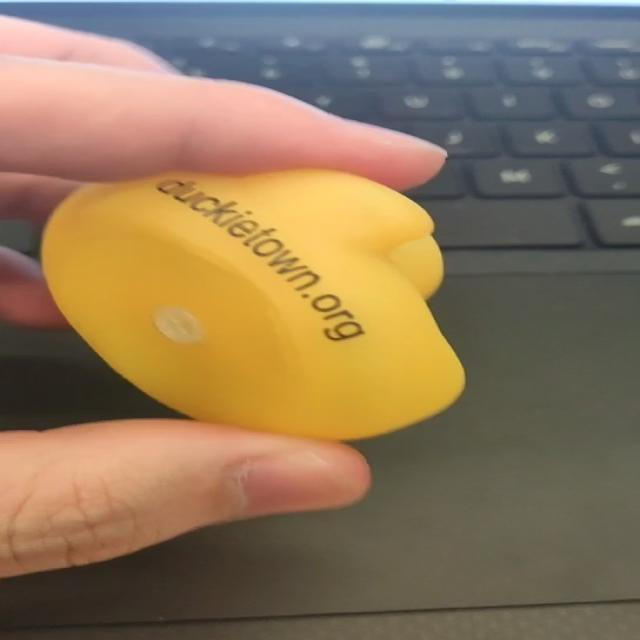rubber-duck: (41, 168, 462, 437)
